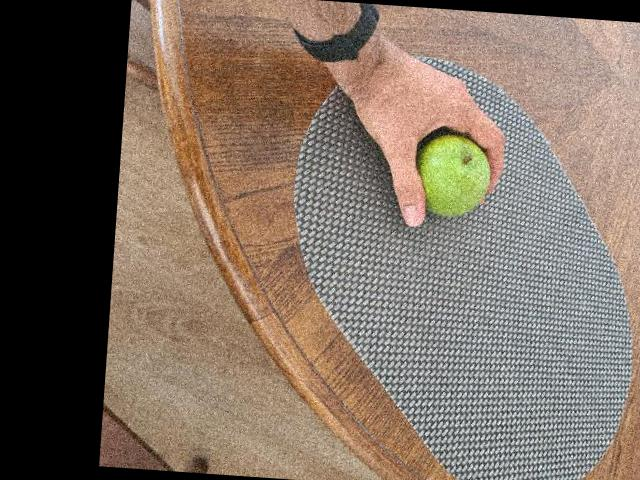apple: (412, 136, 497, 221)
